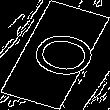O_E: (12, 26, 98, 84)
